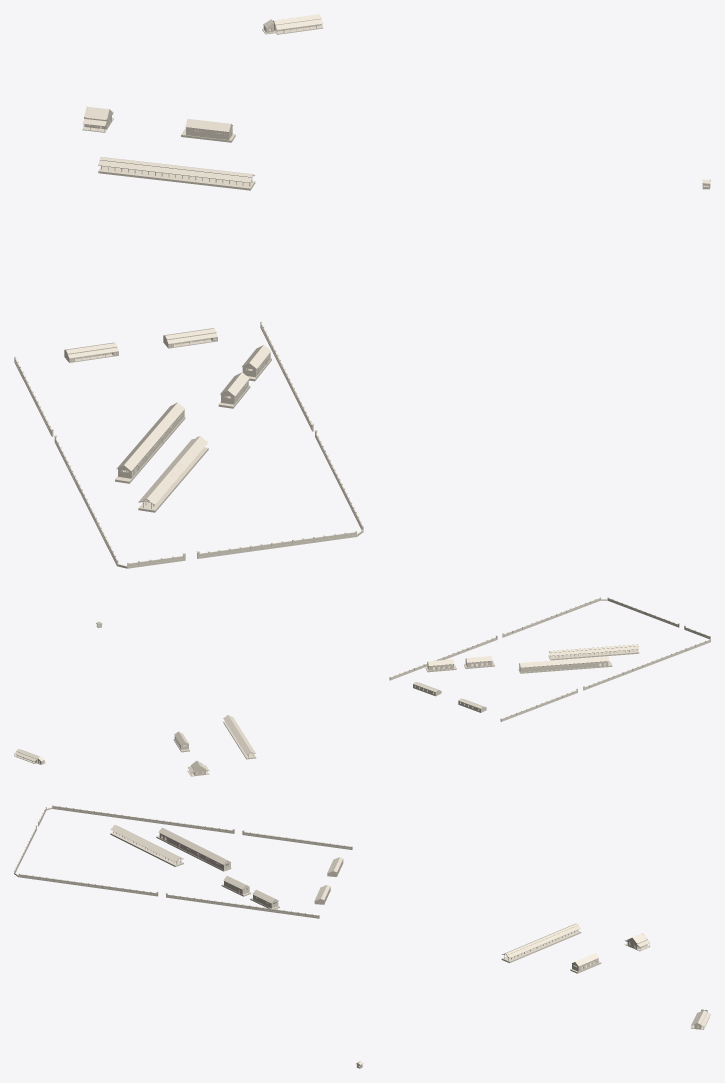
Rendered from M07 Galpones FFRR.glb.
3 views of the same model, one above another, from view 1: azimuth 30°, elevation 25°; view 2: azimuth 150°, elevation 25°; view 3: azimuth 270°, elevation 25° (orthographic). The views are drawn at different scales.
Visible parts, largest first — view 1: M07 Galpones 2, M07 Galpones 5, M07 Galpones 6, M07 Galpones 3, M07 Galpones 4, M07 Galpones; view 2: M07 Galpones 5, M07 Galpones 6, M07 Galpones 2, M07 Galpones 4, M07 Galpones 3, M07 Galpones; view 3: M07 Galpones 6, M07 Galpones 5, M07 Galpones 2, M07 Galpones 4, M07 Galpones 3.
Part boxes in pixels (x1=…): M07 Galpones 2: x1=82, y1=106, x2=255, y2=190; M07 Galpones 5: x1=115, y1=402, x2=208, y2=512; M07 Galpones 6: x1=14, y1=321, x2=363, y2=568; M07 Galpones 3: x1=64, y1=328, x2=217, y2=362; M07 Galpones 4: x1=218, y1=345, x2=271, y2=408; M07 Galpones: x1=262, y1=14, x2=710, y2=189; M07 Galpones 5: x1=518, y1=644, x2=639, y2=673; M07 Galpones 6: x1=389, y1=597, x2=710, y2=721; M07 Galpones 2: x1=173, y1=715, x2=256, y2=776; M07 Galpones 4: x1=425, y1=656, x2=494, y2=672; M07 Galpones 3: x1=413, y1=682, x2=486, y2=712; M07 Galpones: x1=14, y1=621, x2=102, y2=764; M07 Galpones 6: x1=14, y1=805, x2=352, y2=918; M07 Galpones 5: x1=110, y1=825, x2=231, y2=871; M07 Galpones 2: x1=501, y1=923, x2=650, y2=973; M07 Galpones 4: x1=221, y1=876, x2=279, y2=909; M07 Galpones 3: x1=314, y1=857, x2=343, y2=904.
Size of the model in its own units: 430 by 8.26 by 486.
